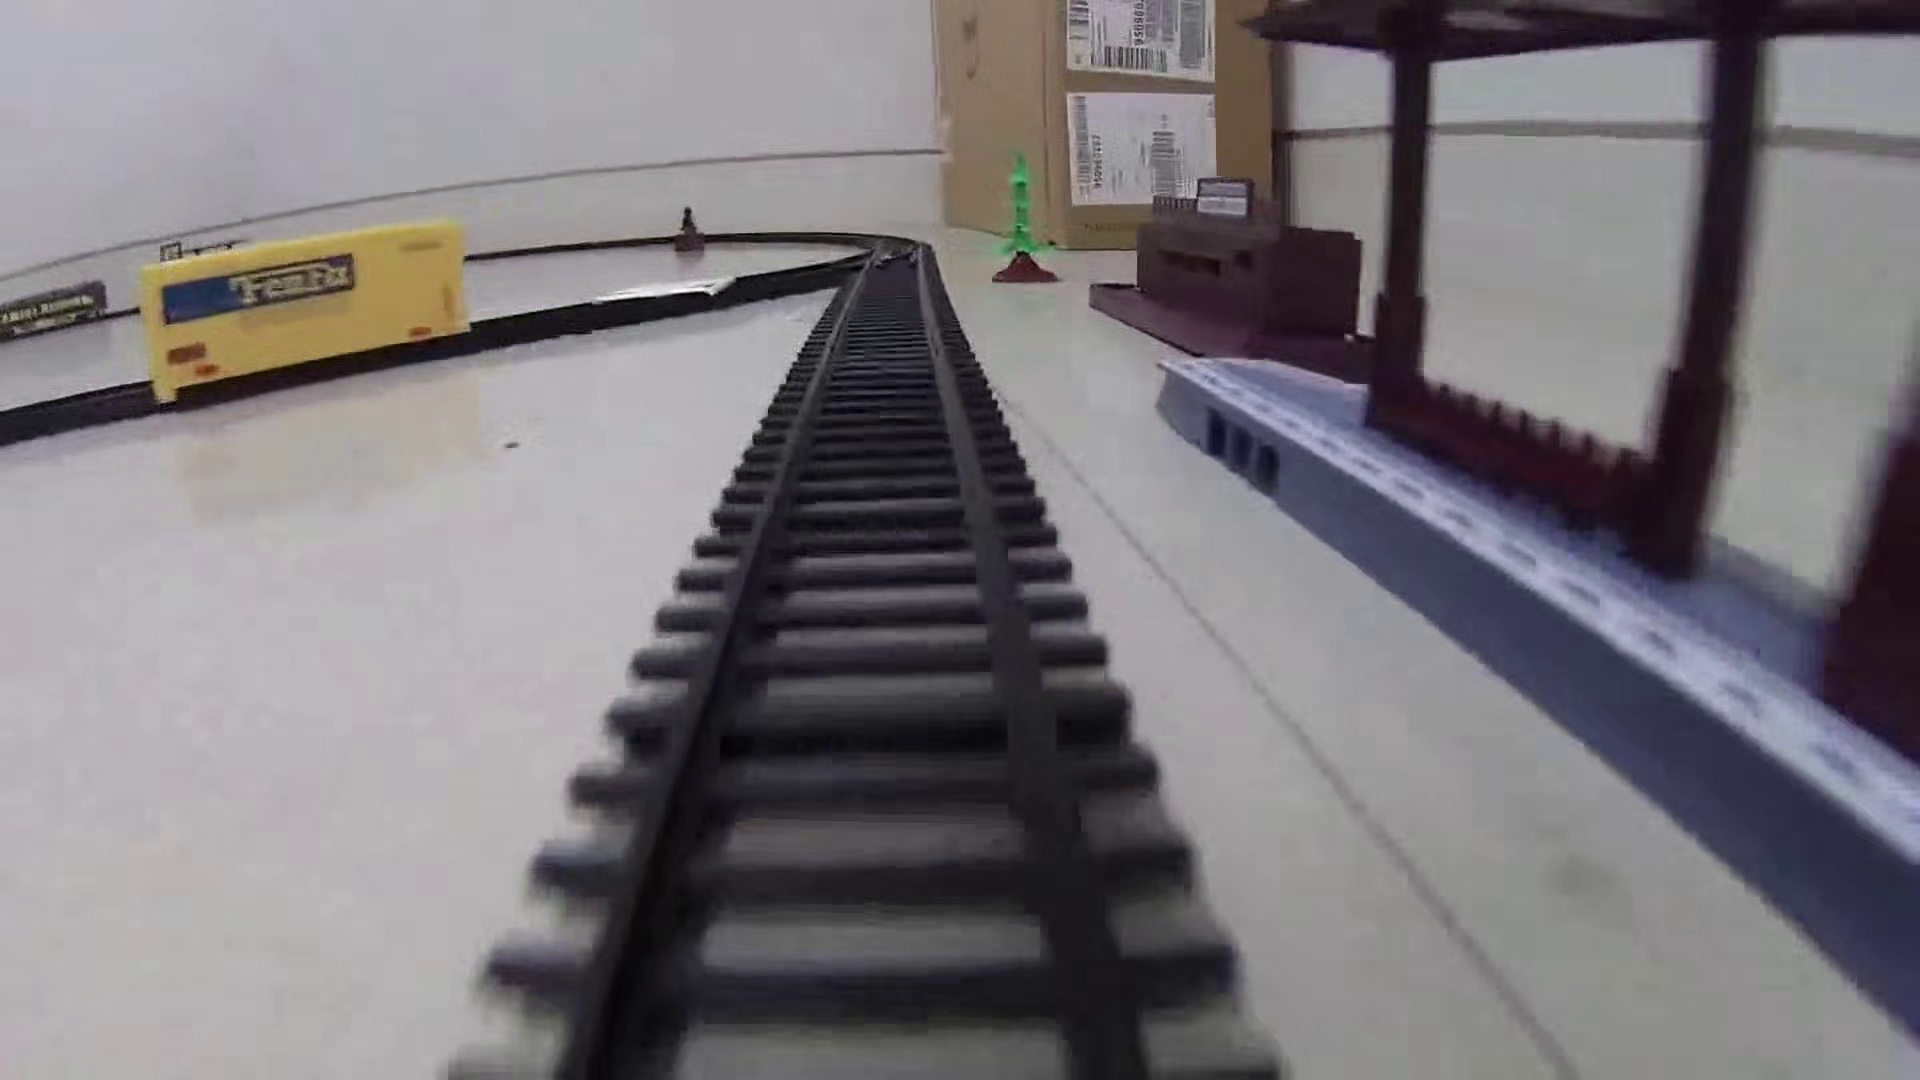people: (675, 205, 703, 248)
tree: (990, 149, 1066, 285)
web: (591, 272, 742, 303)
